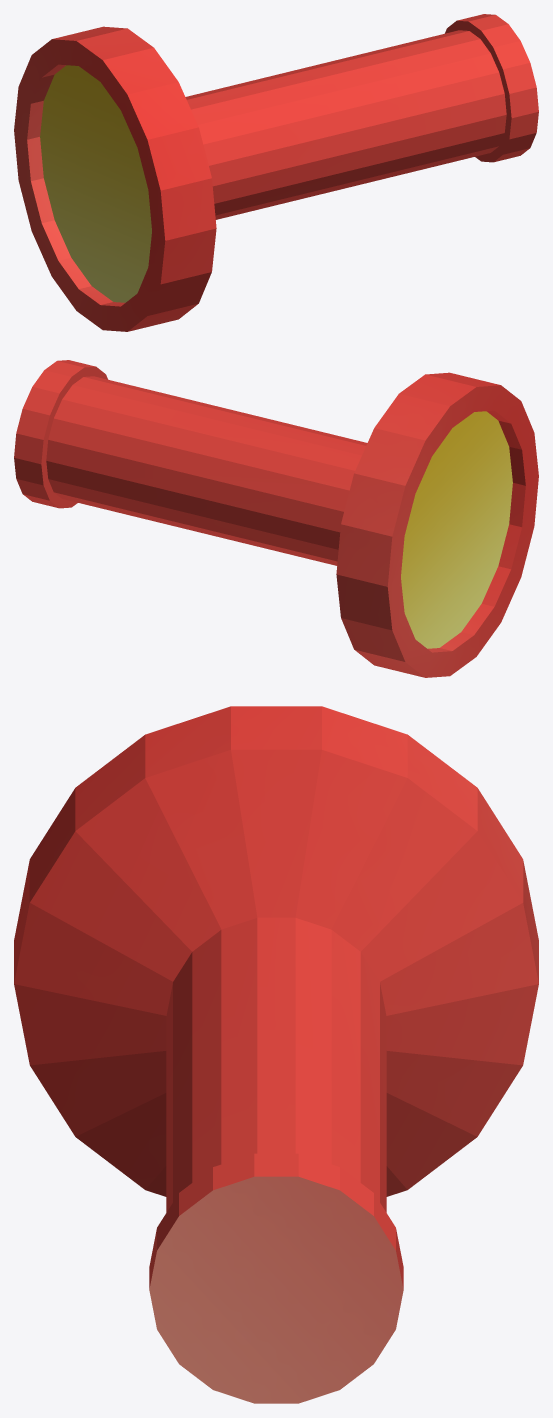
File: SM_Fiashlight_Red.fbx
3 renders of one model, top to bottom at view 1: azimuth 30°, elevation 25°; view 2: azimuth 150°, elevation 25°; view 3: azimuth 270°, elevation 25°, orthographic. The views are drawn at different scales.
Visible parts, largest first — view 1: Fiashlight_Red; view 2: Fiashlight_Red; view 3: Fiashlight_Red.
Boxes of the visible parts, x1,y1,x2,y2 form: Fiashlight_Red: [14, 14, 538, 331]; Fiashlight_Red: [14, 360, 538, 677]; Fiashlight_Red: [14, 706, 538, 1403].
Bounding box in the file's own units: 0.4813 × 0.3008 × 0.3054.
